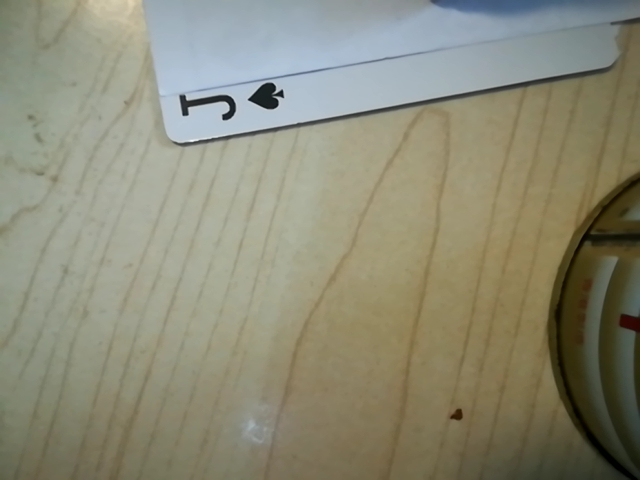ht j: (169, 71, 296, 139)
